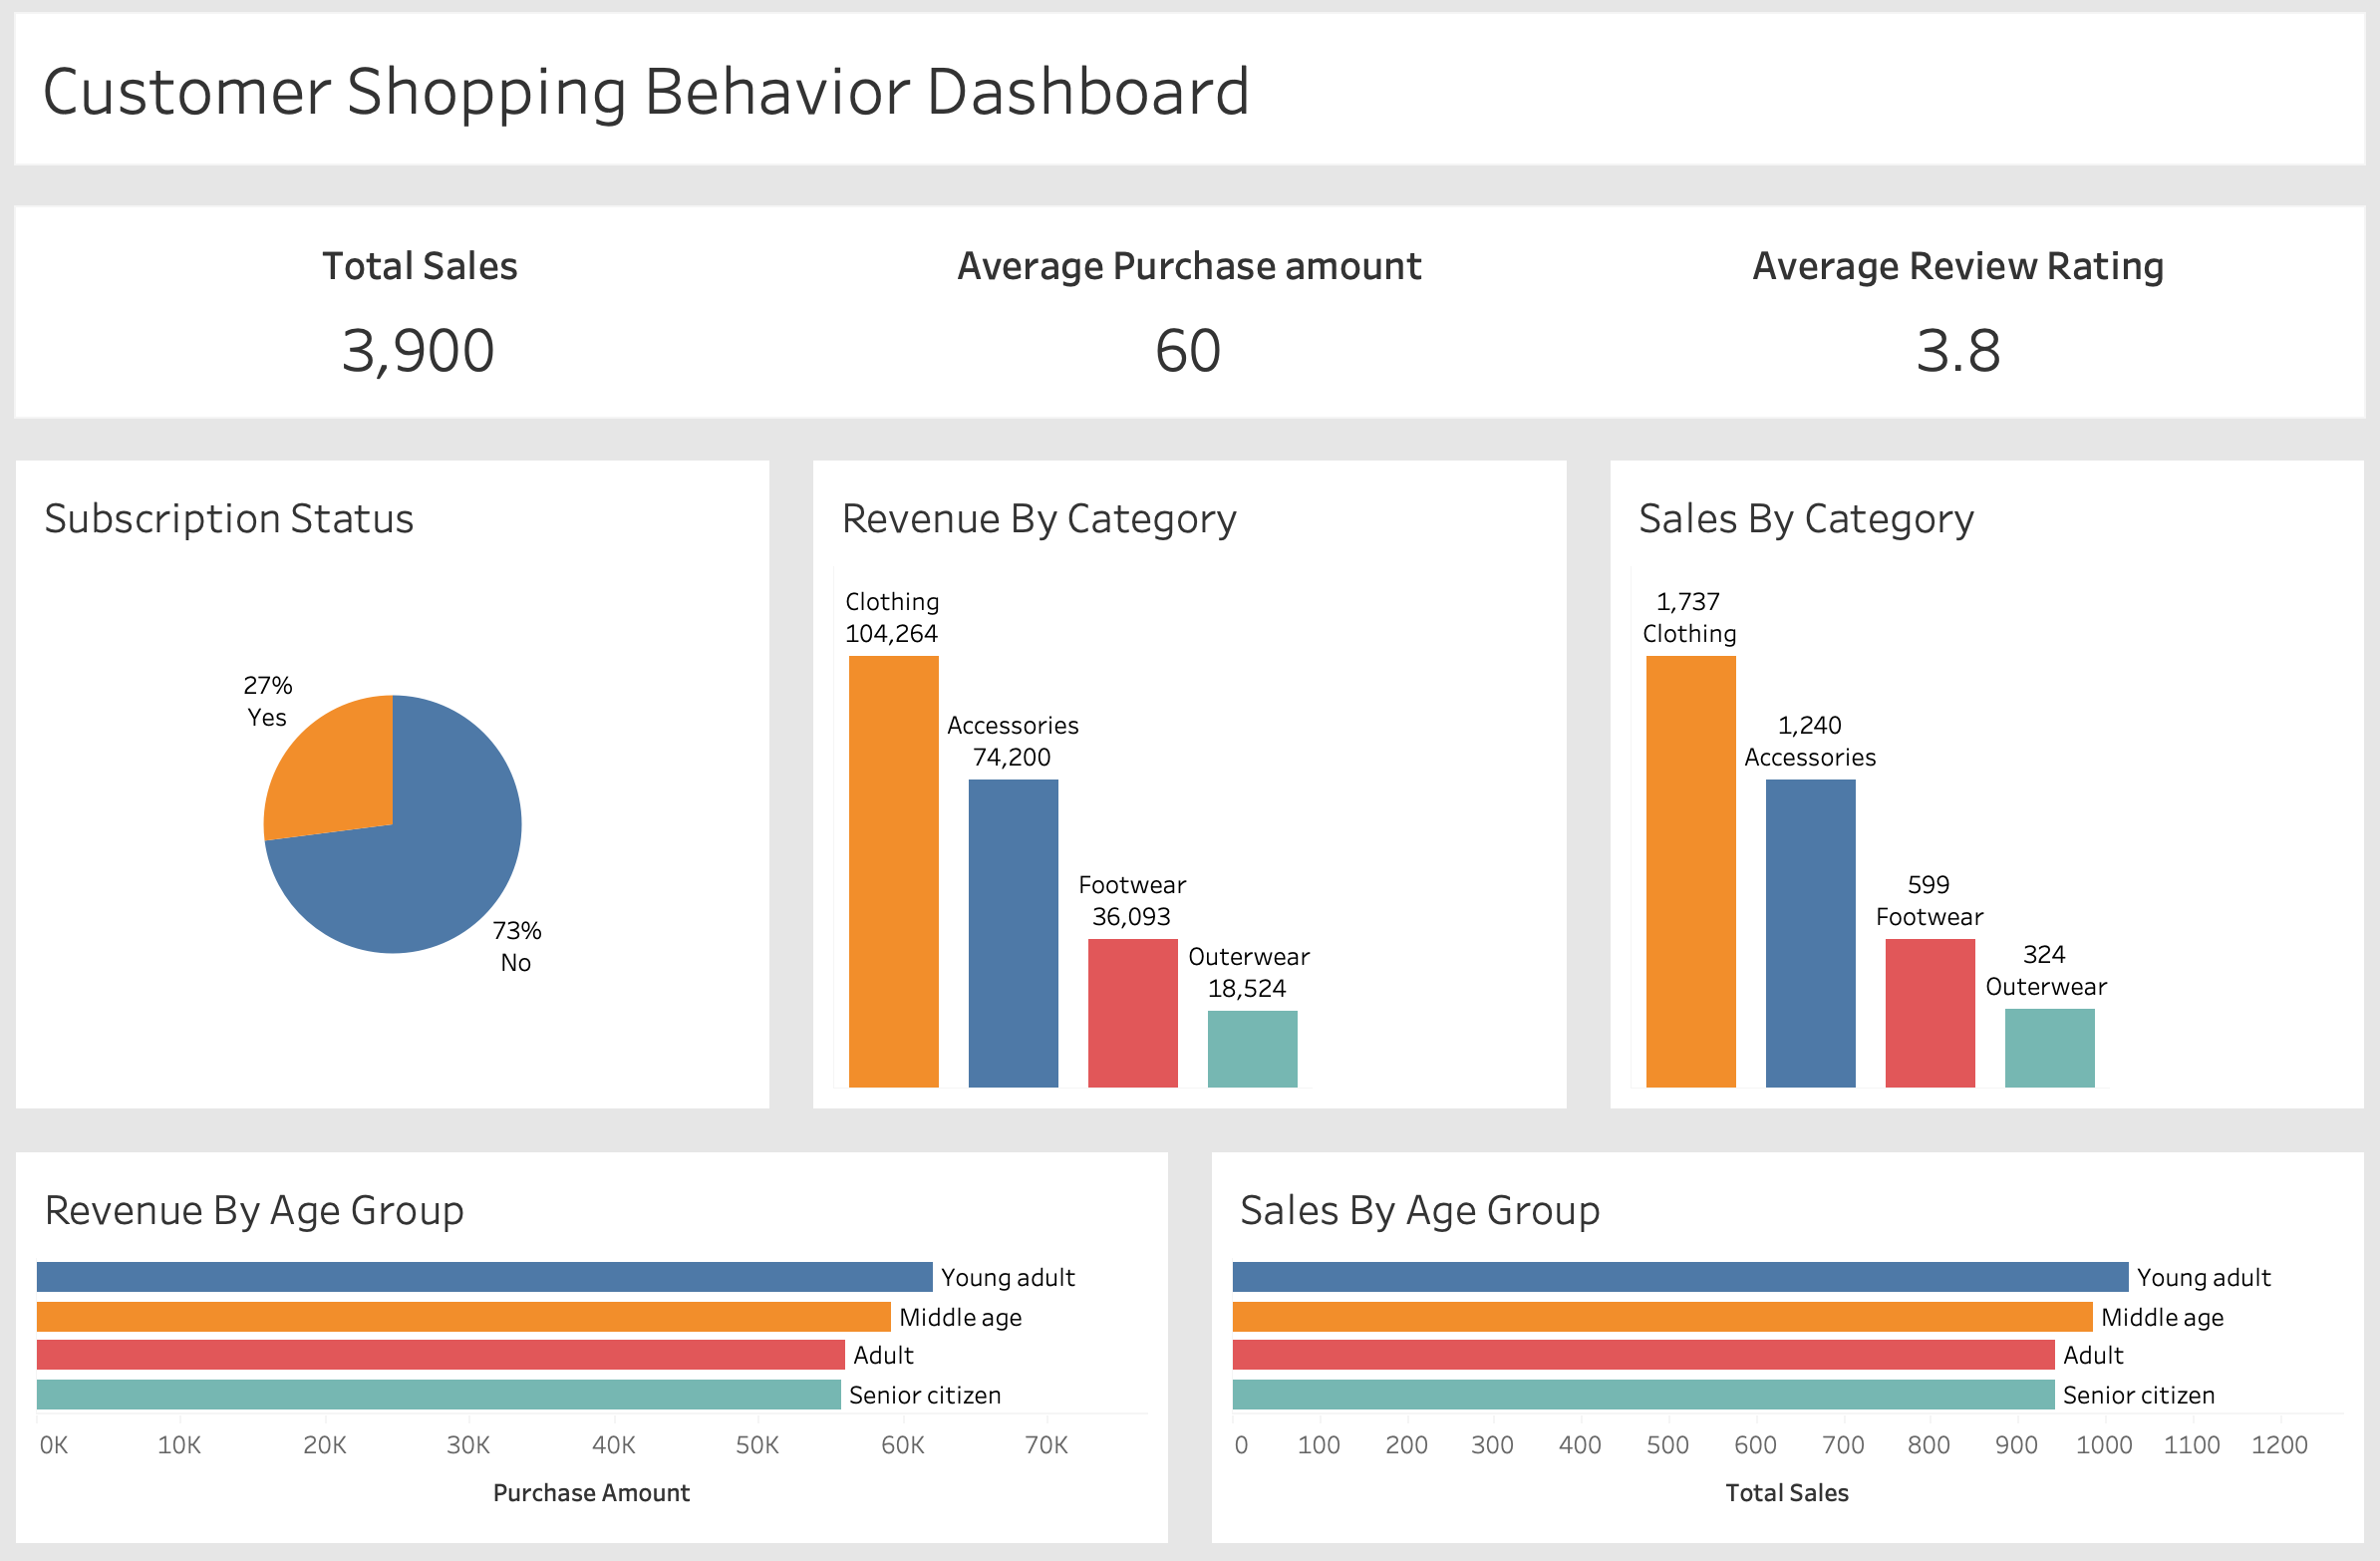

The page's visual inventory and layout, read from the dashboard file:
{"tool":"tableau","page":{"name":"Dashboard 1","canvas":[1000,1000],"units":"permille","ordinal":0},"visuals":[{"type":"text","box":[0,0,1000,122.9]},{"type":"worksheet","title":"Sheet 5","mark":"Automatic","box":[0,122.9,1000,161]},{"type":"worksheet","title":"Sheet 1","mark":"Pie","box":[0,283.9,333.3,439.8]},{"type":"worksheet","title":"Sheet 2","mark":"Automatic","rows":["purchase_amount"],"cols":["category"],"box":[333.3,283.9,333.3,439.8]},{"type":"worksheet","title":"Sheet 3","mark":"Automatic","rows":["Calculation_2822279228384509952"],"cols":["category"],"box":[666.7,283.9,333.3,439.8]},{"type":"worksheet","title":"Sheet 4","mark":"Automatic","rows":["age_group"],"cols":["purchase_amount"],"box":[0,723.7,500,276.3]},{"type":"worksheet","title":"Sheet 4 (2)","mark":"Automatic","rows":["age_group"],"cols":["Calculation_2822279228384509952"],"box":[500,723.7,500,276.3]}]}

Visuals, with their boxes on the dashboard's canvas, which has no fixed pixel size, in thousandths of its width and height (x1, y1, x2, y2). These are canvas units, not pixel positions in the 2380x1561 screenshot, which may show the page scaled, cropped or inside an application window:
text: {"x1": 0, "y1": 0, "x2": 1000, "y2": 123}
"Sheet 5" worksheet: {"x1": 0, "y1": 123, "x2": 1000, "y2": 284}
"Sheet 1" worksheet (Pie marks): {"x1": 0, "y1": 284, "x2": 333, "y2": 724}
"Sheet 2" worksheet: {"x1": 333, "y1": 284, "x2": 667, "y2": 724}
"Sheet 3" worksheet: {"x1": 667, "y1": 284, "x2": 1000, "y2": 724}
"Sheet 4" worksheet: {"x1": 0, "y1": 724, "x2": 500, "y2": 1000}
"Sheet 4 (2)" worksheet: {"x1": 500, "y1": 724, "x2": 1000, "y2": 1000}
